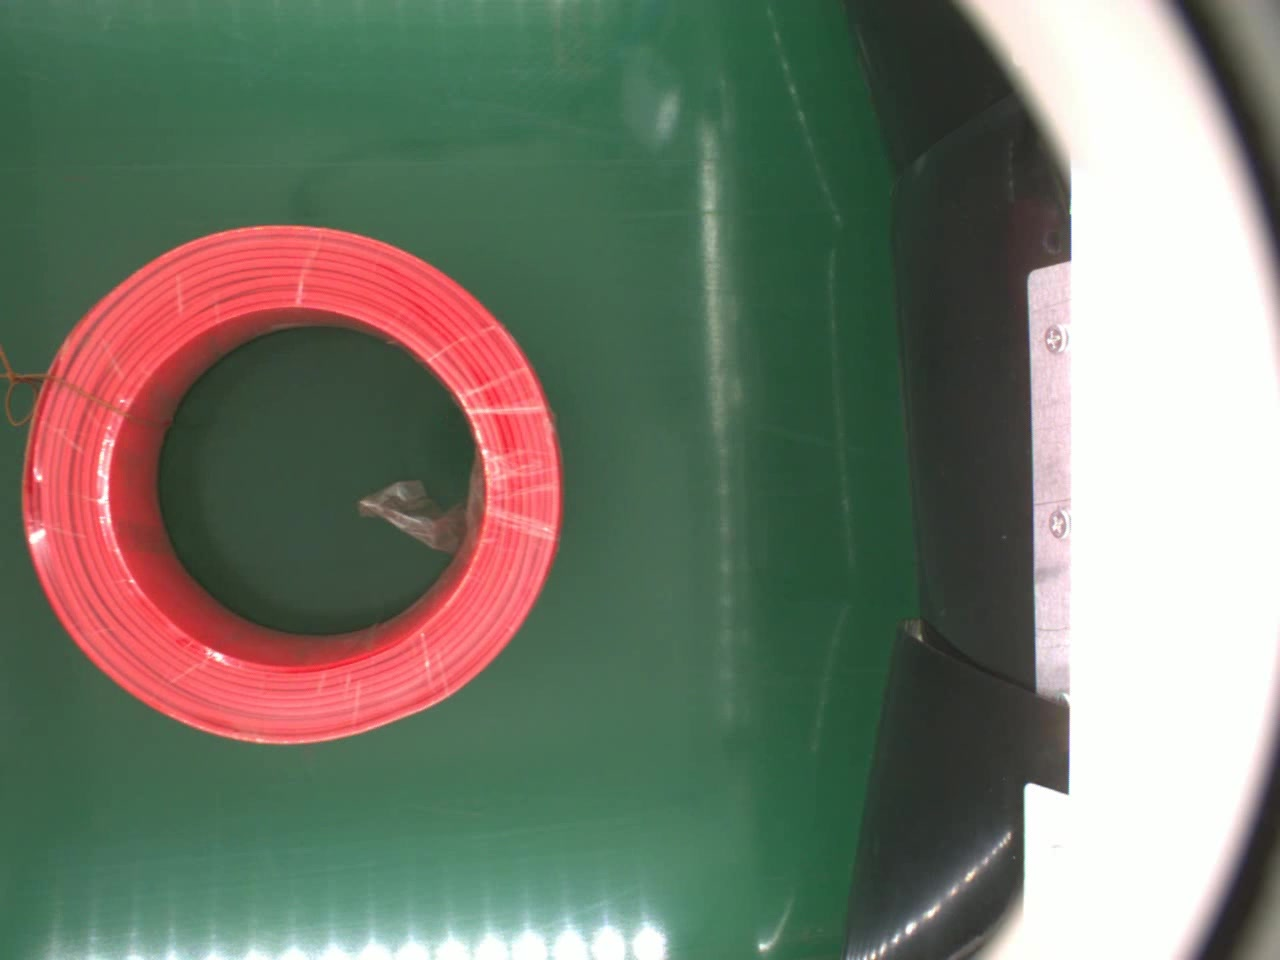red: (20, 219, 564, 750)
